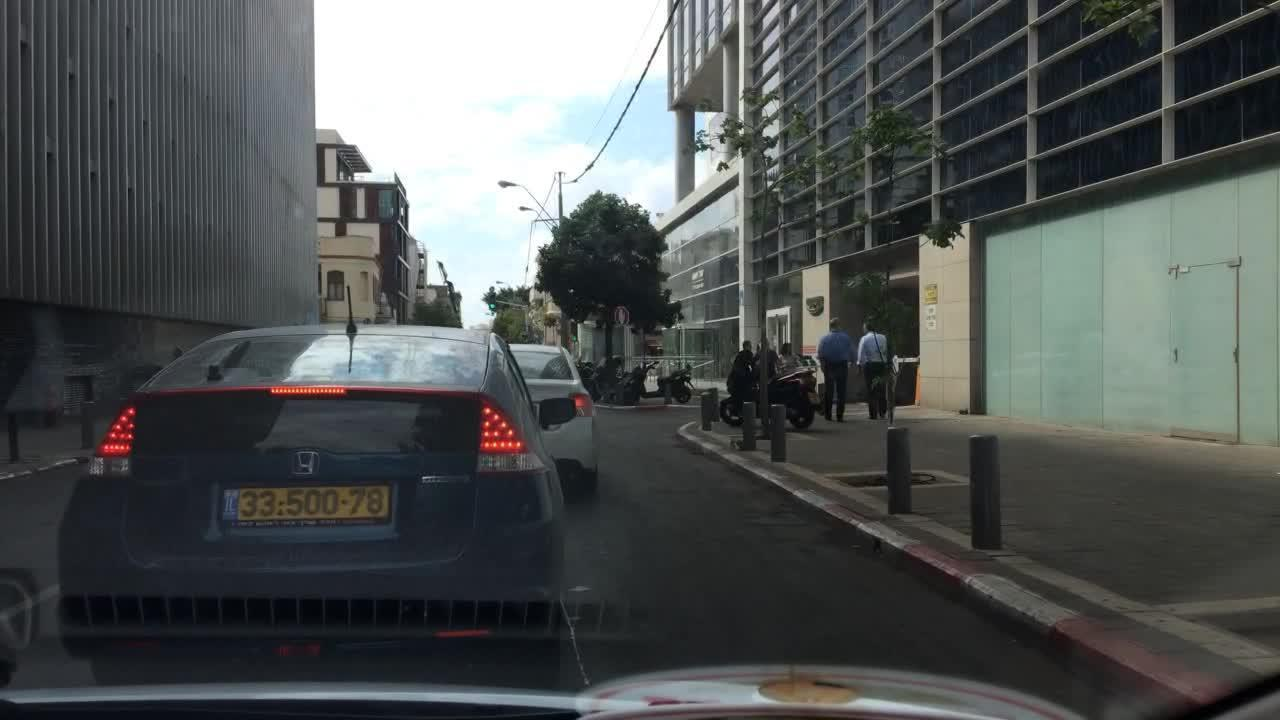Honda: (278, 438, 343, 484)
